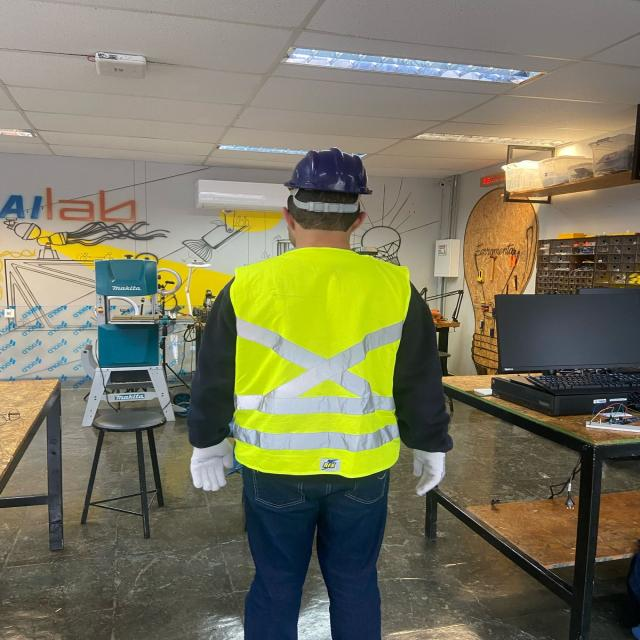CAPACETE: (282, 149, 374, 196)
COLETE: (225, 252, 412, 472)
LUVA: (189, 436, 234, 491), (412, 448, 444, 496)
LUVA-CAPACETE-COLETE-BOTA-OCULOS: (291, 192, 362, 213)
